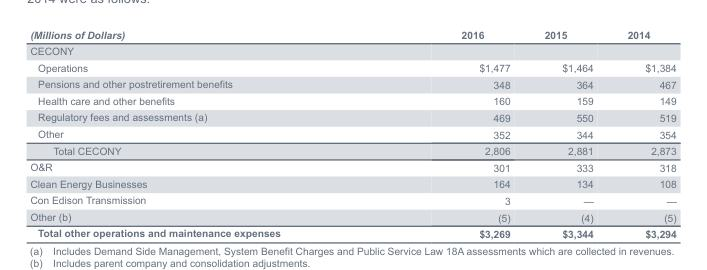table: (29, 28, 676, 239)
table column: (29, 28, 370, 239), (370, 28, 526, 239), (526, 28, 609, 239), (609, 28, 676, 239)
table column header: (29, 28, 676, 42)
table projected row header: (29, 42, 676, 58)
table row: (29, 58, 676, 75), (29, 75, 676, 92), (29, 108, 676, 125), (29, 125, 676, 142), (29, 158, 676, 175), (29, 191, 676, 208), (29, 42, 676, 58), (29, 92, 676, 108), (29, 142, 676, 158), (29, 175, 676, 191), (29, 208, 676, 224), (29, 224, 676, 239), (29, 28, 676, 42)
